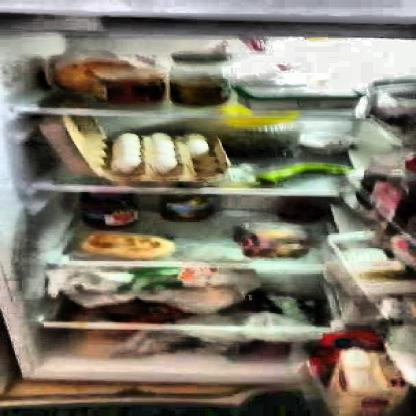cream_cheese: (238, 85, 356, 109)
eggs: (112, 134, 210, 172)
green_chillies: (252, 164, 347, 184)
milk: (333, 350, 413, 415)
olives: (222, 131, 296, 163)
